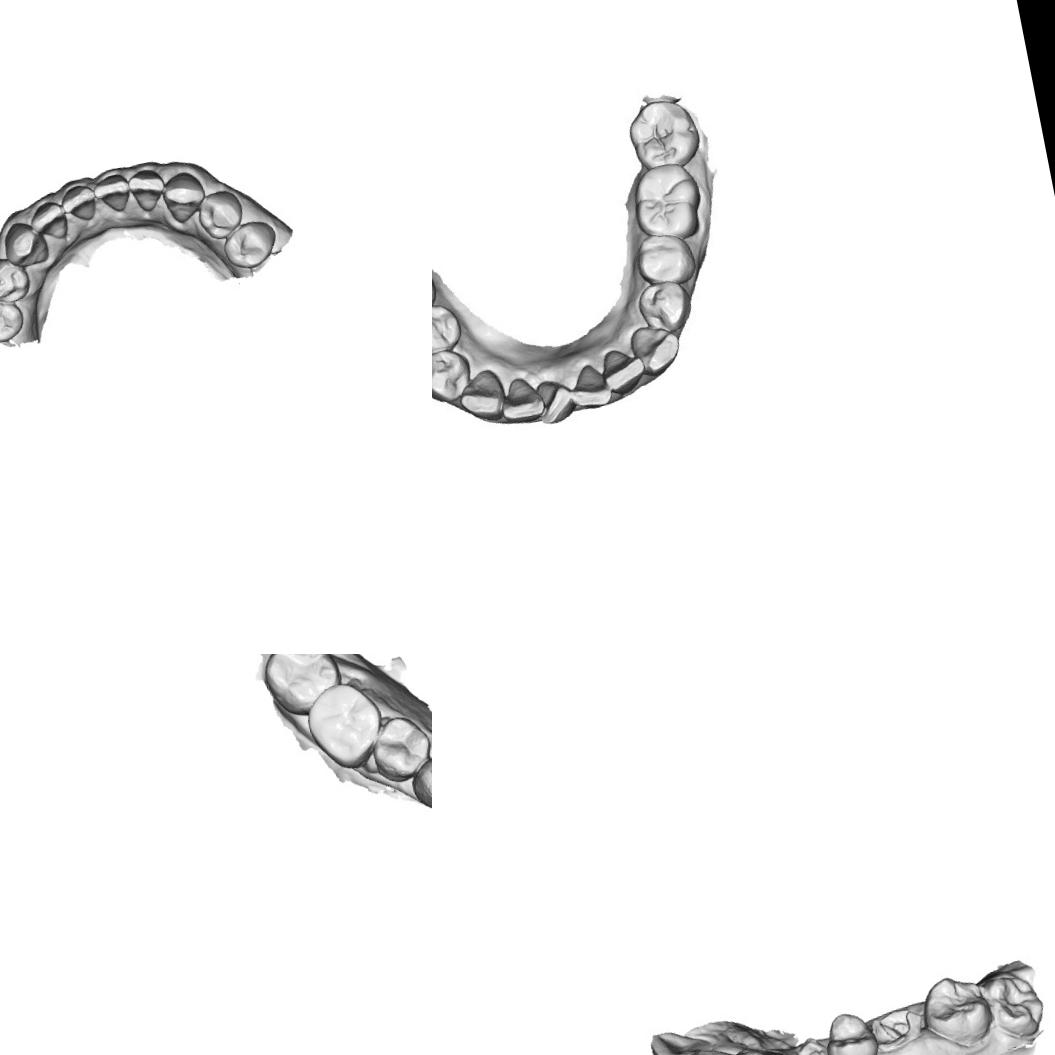canine: (624, 319, 688, 380), (156, 165, 209, 227), (454, 364, 507, 426), (0, 215, 50, 271), (726, 1038, 797, 1055)
incisor: (559, 356, 618, 418), (594, 344, 651, 402), (493, 370, 546, 426), (529, 372, 576, 428), (125, 163, 173, 217), (55, 176, 102, 228), (645, 1022, 715, 1055), (88, 169, 134, 218), (26, 197, 71, 245), (684, 1041, 741, 1055)
molar: (297, 676, 390, 776), (915, 965, 1000, 1055), (624, 156, 708, 247), (622, 92, 703, 174), (979, 960, 1052, 1043), (256, 654, 345, 719)
premolar: (363, 710, 432, 786), (629, 226, 697, 290), (633, 275, 694, 339), (218, 214, 280, 274), (192, 184, 248, 244), (819, 1006, 885, 1055), (432, 343, 477, 409), (432, 297, 466, 361), (0, 250, 33, 308), (0, 289, 33, 347), (405, 749, 432, 816)
